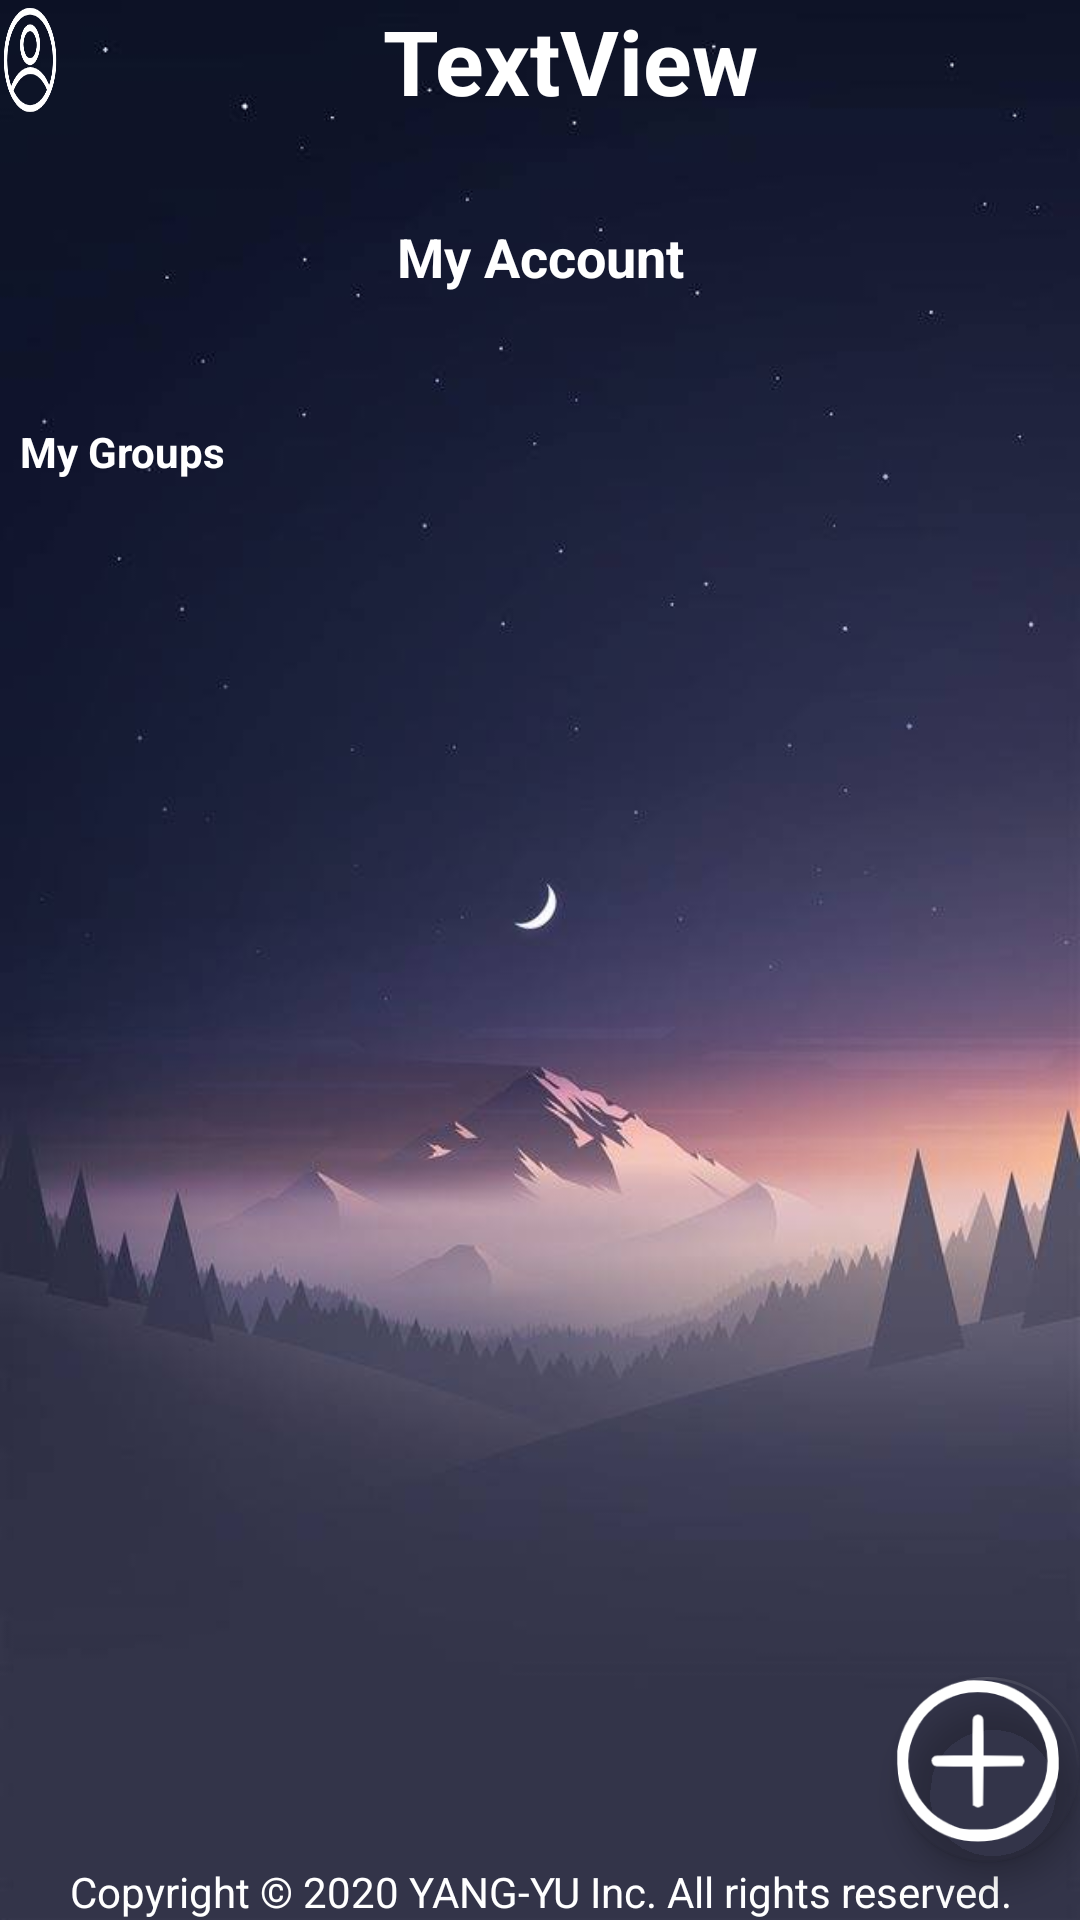

Point at icon controls on the screen. Image size 1080px×1920px, points as point (x, y).
add: point (978, 1759)
personalinfo: point (30, 60)
